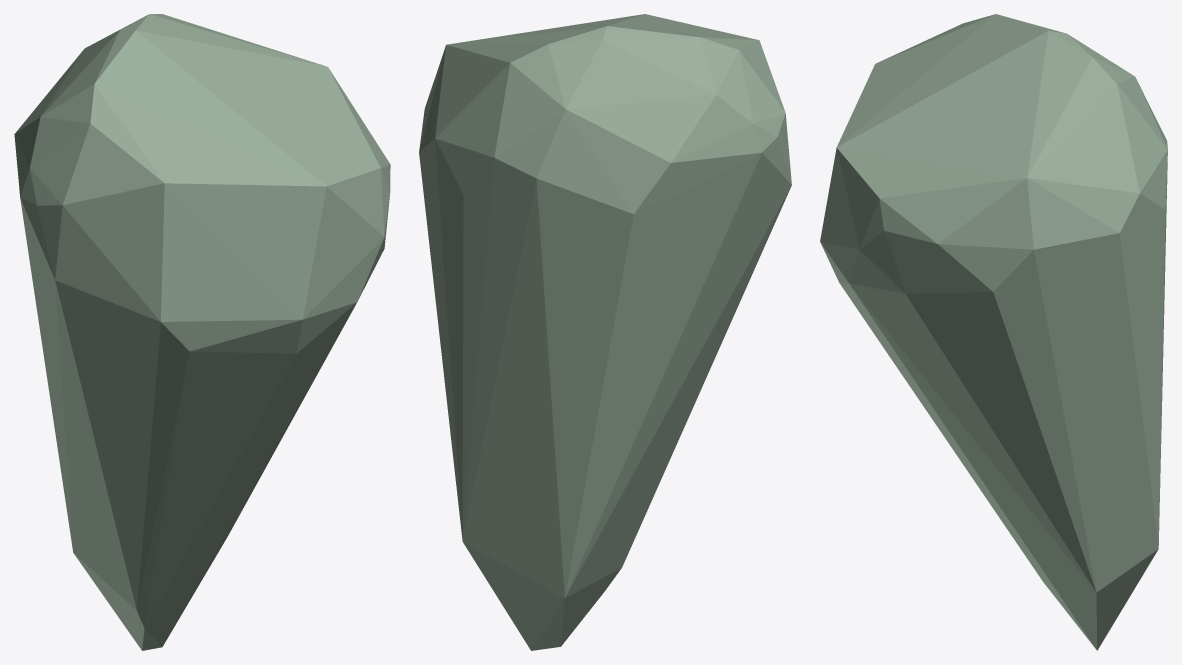
File: food_produce_squash_d01.glb
3 views of the same model, side by side, from view 1: azimuth 30°, elevation 25°; view 2: azimuth 150°, elevation 25°; view 3: azimuth 270°, elevation 25° (orthographic). The views are drawn at different scales.
Parts seen in each view (by area): view 1: geometry_0; view 2: geometry_0; view 3: geometry_0.
Boxes of the visible parts, box(x1,y1,x2,y2) form: geometry_0: box(14, 14, 390, 650); geometry_0: box(419, 14, 791, 650); geometry_0: box(820, 14, 1167, 650).
Size of the model in its own units: 0.2586 by 0.4722 by 0.2497.
